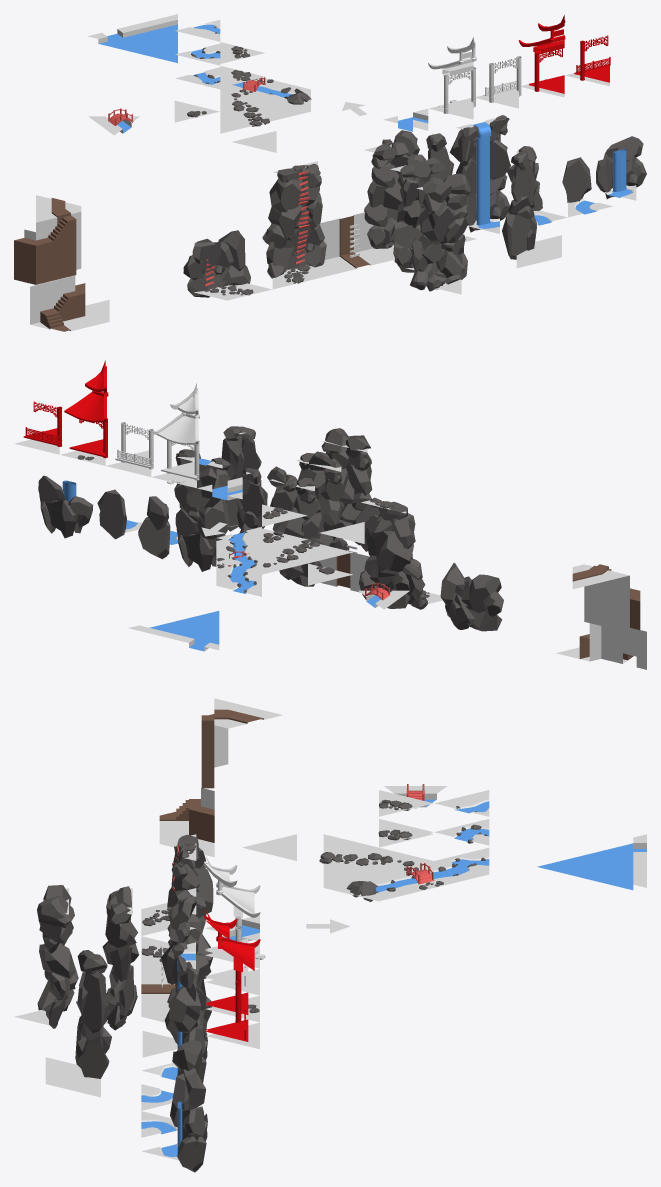
File: AsianVillageDetailed.fbx
3 views of the same model, one above another, from view 1: azimuth 30°, elevation 25°; view 2: azimuth 150°, elevation 25°; view 3: azimuth 270°, elevation 25° (orthographic). The views are drawn at different scales.
Parts seen in each view (by area): view 1: CliffBottom.003, Ladder, WaterfallBottomRight, Waterfall, LadderBottomLeft, Cliff.007, WaterfallBottomLeft, LadderBottomRight, LadderBottom, CliffBottom.001, CliffSmallRightEdgeBottom, Cliff (+47 smaller); view 2: LadderBottomLeft, Waterfall, Ladder, WaterfallBottomRight, Cliff, WaterfallBottomLeft, CliffSmallBottomRiverLeft, Cliff.001, Cliff.002, LadderBottomRight, PavillionTopCombined, Cliff.007 (+40 smaller); view 3: Waterfall, WaterfallBottomRight, CliffSmallBottomRiverLeft, CliffSmallLeftEdgeBottom, CliffBottom.003, Ladder, Cliff.002, Cliff.007, CliffSmallBottom.002, CliffBottom.002, PavillionSideCombined, CliffSmallLeftEdge (+33 smaller).
Boxes of the visible parts, x1,y1,x2,y2 form: CliffBottom.003: (410,234,467,294); Ladder: (268,172,322,237); WaterfallBottomRight: (596,136,646,200); Waterfall: (449,129,510,196); LadderBottomLeft: (183,238,233,300); Cliff.007: (419,193,467,244); WaterfallBottomLeft: (465,175,509,233); LadderBottomRight: (282,223,326,278); LadderBottom: (329,212,363,265); CliffBottom.001: (30,278,63,331); CliffSmallRightEdgeBottom: (502,206,561,268); Cliff: (367,154,409,209); LadderBottomLeft: (448,574,503,631); Waterfall: (174,461,230,539); Ladder: (364,507,415,571); WaterfallBottomRight: (38,475,93,538); Cliff: (270,485,323,539); WaterfallBottomLeft: (175,509,225,571); CliffSmallBottomRiverLeft: (138,496,178,559); Cliff.001: (584,580,618,629); Cliff.002: (298,468,348,525); LadderBottomRight: (359,555,409,608); PavillionTopCombined: (64,360,108,422); Cliff.007: (325,451,372,503); Waterfall: (168,953,212,1037); WaterfallBottomRight: (142,1101,207,1172); CliffSmallBottomRiverLeft: (141,1040,205,1110); CliffSmallLeftEdgeBottom: (46,1026,109,1097); CliffBottom.003: (14,945,78,1028); Ladder: (167,846,213,917); Cliff.002: (102,899,139,981); Cliff.007: (39,921,75,979); CliffSmallBottom.002: (160,788,214,857); CliffBottom.002: (78,965,137,1030); PavillionSideCombined: (205,980,259,1049); CliffSmallLeftEdge: (81,971,108,1032).
Size of the model in its own units: 2701 by 802 by 1989.
